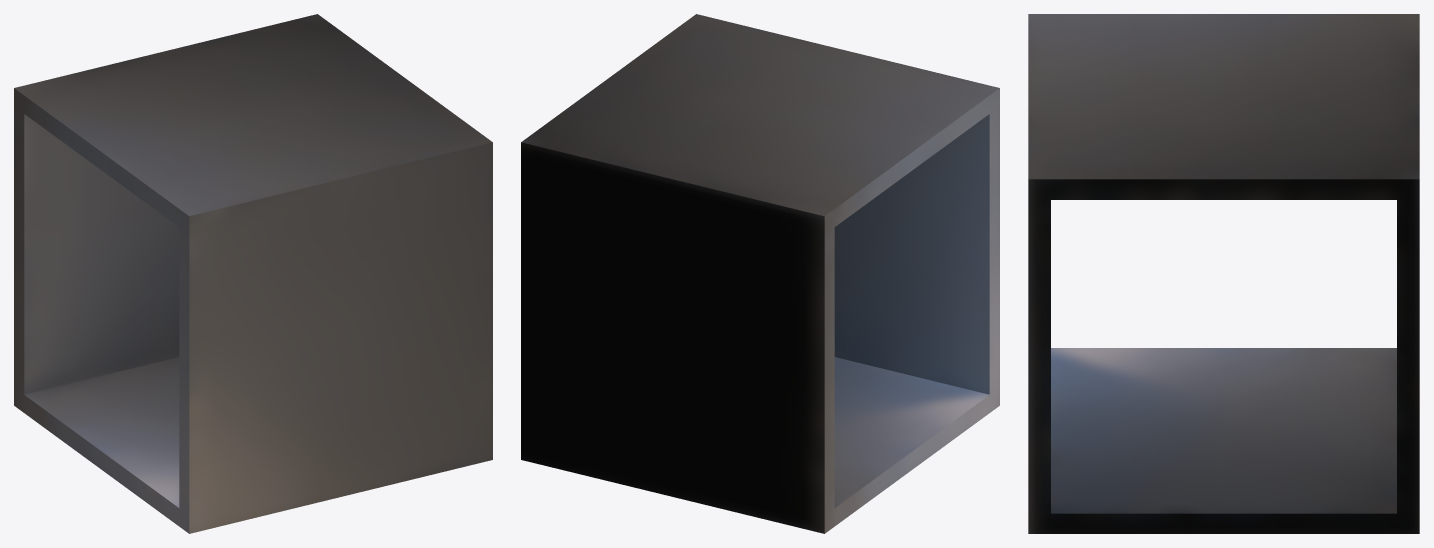
3 views of the same model, side by side, from view 1: azimuth 30°, elevation 25°; view 2: azimuth 150°, elevation 25°; view 3: azimuth 270°, elevation 25° (orthographic). The views are drawn at different scales.
Visible parts, largest first — view 1: Cube.032; view 2: Cube.032; view 3: Cube.032.
Part boxes in pixels (<box>): Cube.032: <box>14,14,492,533</box>; Cube.032: <box>521,14,999,533</box>; Cube.032: <box>1028,14,1419,533</box>.
Size of the model in its own units: 0.8657 by 0.8657 by 0.8657.
1 material, 1 textured.
